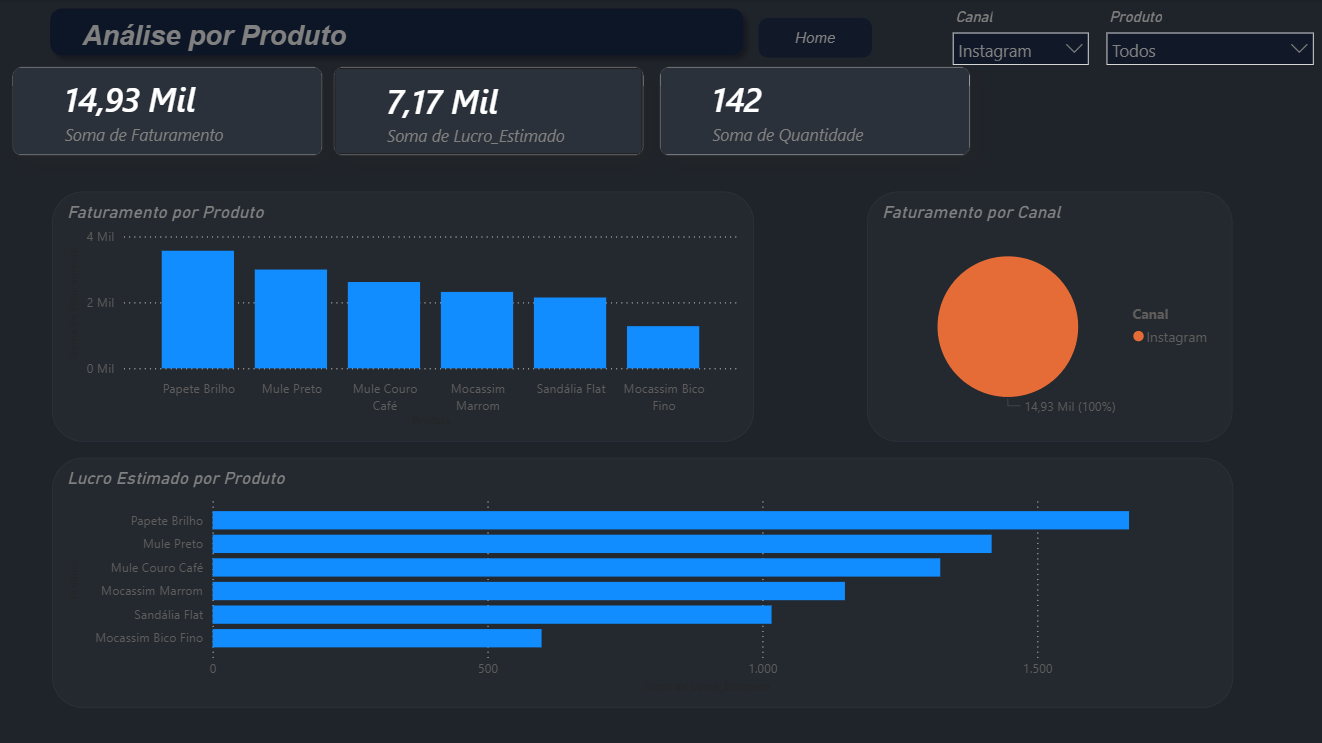

This screenshot's page, from the dashboard's own definition file:
{"tool":"powerbi","page":{"name":"Página 3","canvas":[1280,720],"ordinal":2},"visuals":[{"type":"shape","box":[42.5,0,687.5,63.8],"z":0},{"type":"textbox","box":[77.5,16.2,600,47.5],"z":1000},{"type":"slicer","fields":{"Values":["Vendas.Produto"]},"box":[1060,3.8,220,63.8],"z":2000},{"type":"shape","box":[735,17.5,110,38.8],"z":3000},{"type":"cardVisual","fields":{"Data":["Sum(Vendas.Faturamento)"]},"box":[15,65,300,86.2],"z":3001},{"type":"cardVisual","fields":{"Data":["Sum(Vendas.Quantidade)"]},"box":[640,65,300,86.2],"z":3002},{"type":"cardVisual","fields":{"Data":["Sum(Vendas.Lucro_Estimado)"]},"box":[325,65,300,86.2],"z":3003},{"type":"clusteredColumnChart","title":"Faturamento por Produto","fields":{"Category":["Vendas.Produto"],"Y":["Sum(Vendas.Faturamento)"]},"box":[52.5,186.2,677.5,241.2],"z":3004},{"type":"pieChart","title":"Faturamento por Canal","fields":{"Category":["Vendas.Canal"],"Y":["Sum(Vendas.Faturamento)"]},"box":[840,186.2,352.5,241.2],"z":3005},{"type":"slicer","fields":{"Values":["Vendas.Canal"]},"box":[912.5,3.8,151.2,63.8],"z":3006},{"type":"barChart","title":"Lucro Estimado por Produto","fields":{"Category":["Vendas.Produto"],"Y":["Sum(Vendas.Lucro_Estimado)"]},"box":[52.5,442.5,1140,241.2],"z":3007}]}

Visuals, with their boxes in screenshot pixels (x1, y1, x2, y2), scaled from the page's 1280x720 canvas onto the 1322x743 screenshot:
shape: left=44, top=0, right=754, bottom=66
textbox: left=80, top=17, right=700, bottom=66
slicer - Vendas.Produto: left=1095, top=4, right=1321, bottom=70
shape: left=759, top=18, right=873, bottom=58
cardVisual - Sum(Vendas.Faturamento): left=15, top=67, right=325, bottom=156
cardVisual - Sum(Vendas.Quantidade): left=661, top=67, right=971, bottom=156
cardVisual - Sum(Vendas.Lucro_Estimado): left=336, top=67, right=646, bottom=156
"Faturamento por Produto" clusteredColumnChart: left=54, top=192, right=754, bottom=441
"Faturamento por Canal" pieChart: left=868, top=192, right=1232, bottom=441
slicer - Vendas.Canal: left=942, top=4, right=1099, bottom=70
"Lucro Estimado por Produto" barChart: left=54, top=457, right=1232, bottom=706
